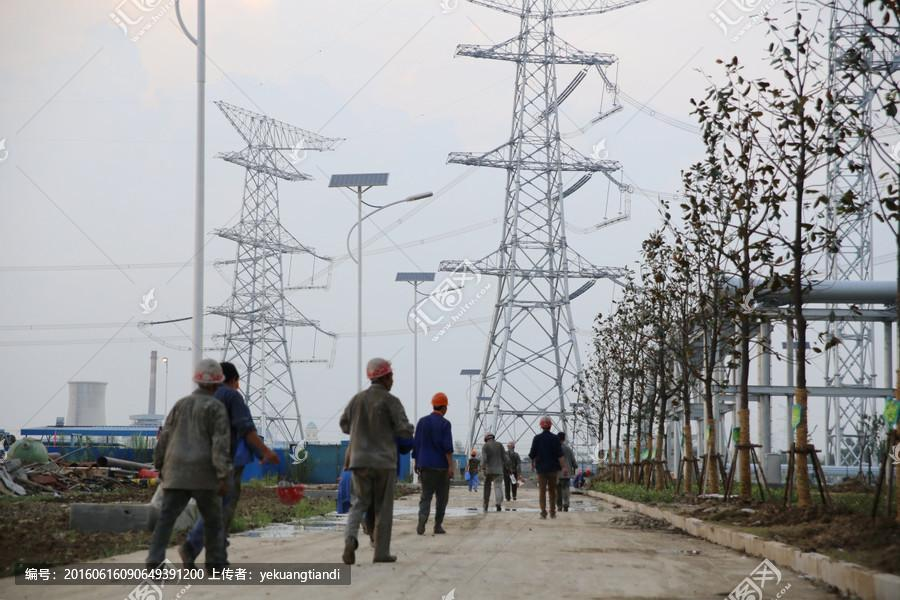helmet: (192, 358, 227, 387), (369, 357, 393, 381), (434, 394, 451, 410), (542, 418, 556, 431), (472, 450, 479, 461), (586, 469, 594, 477)
